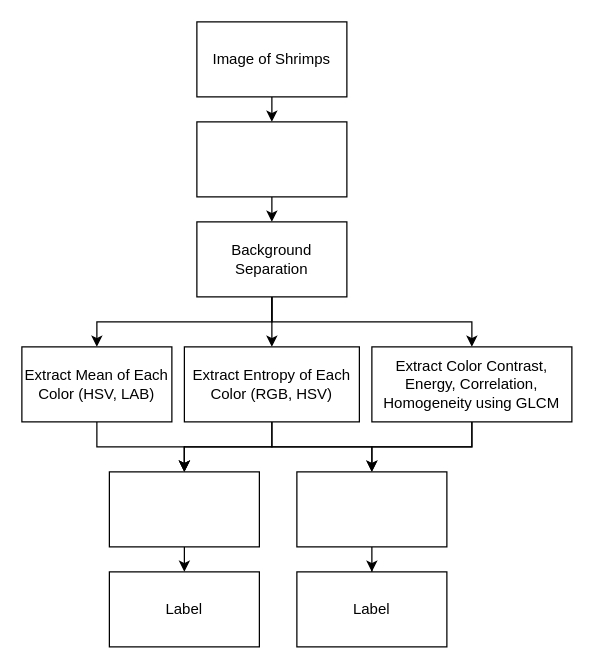
The diagram is 594 pixels wide and 669 high, and some of its shapes have lost their labels. The shapes that lost their labels are listed below. From the top down, each one's centre as x and y in pixels, then its label:
At (271,159): "Level Thresholding".
At (183,509): "Decision Tree Classification".
At (371,509): "Linear Discriminant Analysis".
